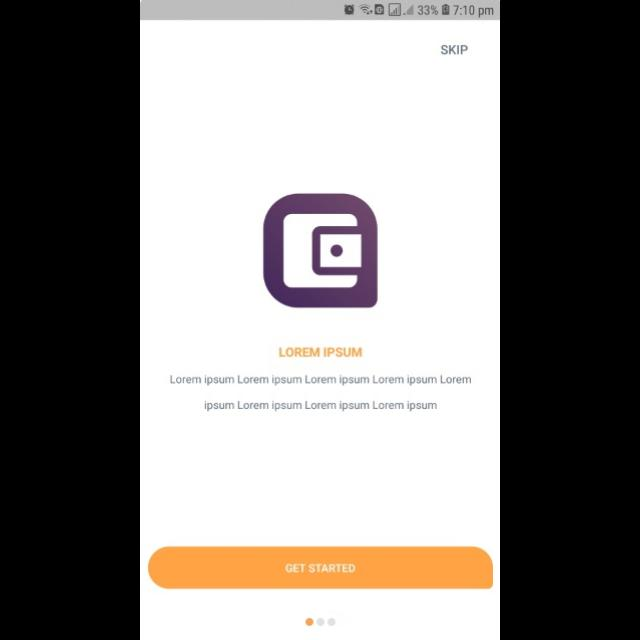image: (264, 194, 378, 308)
pageindicator: (306, 617, 336, 627)
text: (170, 375, 472, 413), (280, 347, 364, 358), (441, 46, 469, 56)
textbutton: (149, 547, 493, 589)
uppertaskbar: (142, 1, 500, 21)
